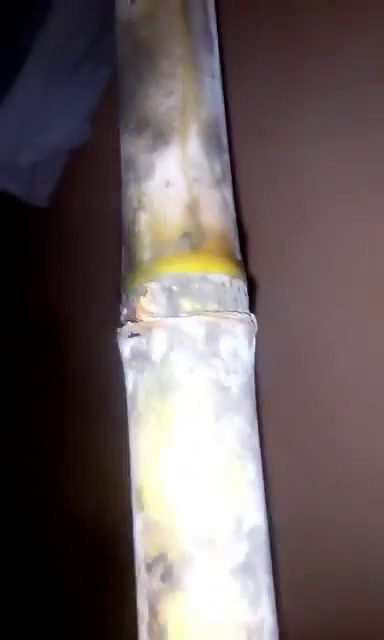cane eye: (127, 282, 176, 329)
